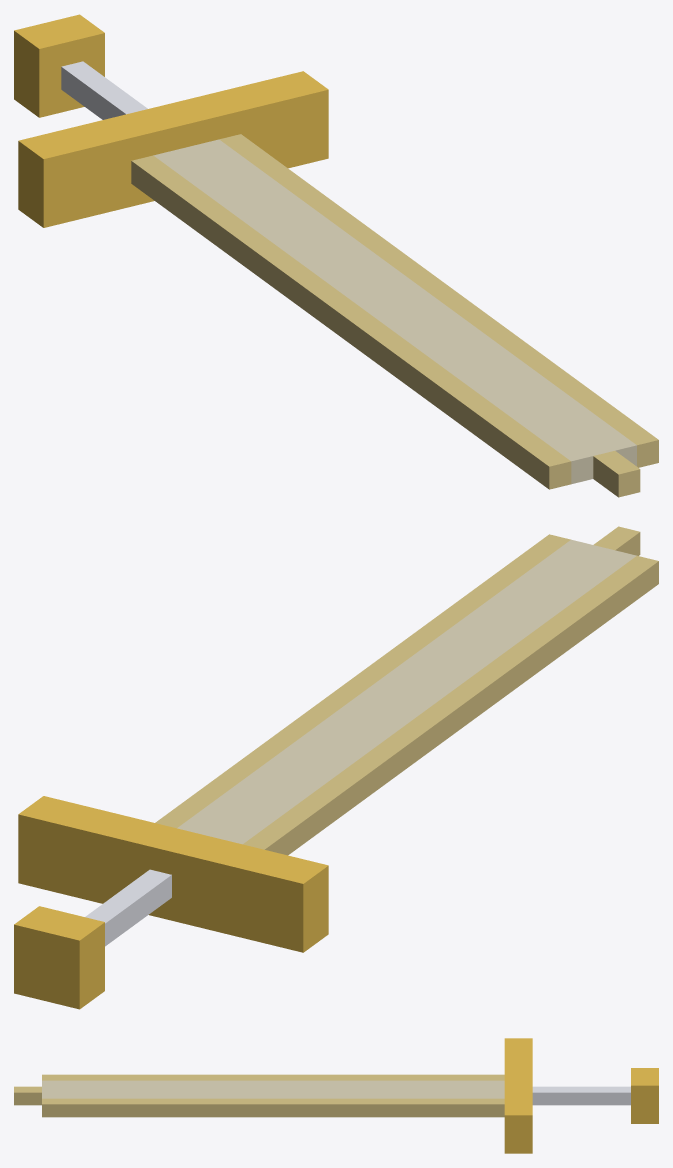
The model's file is vox_blade_radiant.glb.
3 views of the same model, one above another, from view 1: azimuth 30°, elevation 25°; view 2: azimuth 150°, elevation 25°; view 3: azimuth 270°, elevation 25° (orthographic). The views are drawn at different scales.
Parts seen in each view (by area): view 1: vox_blade_radiant; view 2: vox_blade_radiant; view 3: vox_blade_radiant.
Part boxes in pixels (x1,y1,x2,y2): vox_blade_radiant: [14, 14, 658, 497]; vox_blade_radiant: [14, 526, 658, 1009]; vox_blade_radiant: [14, 1038, 658, 1153].
Size of the model in its own units: 0.26 by 0.06 by 0.92.
